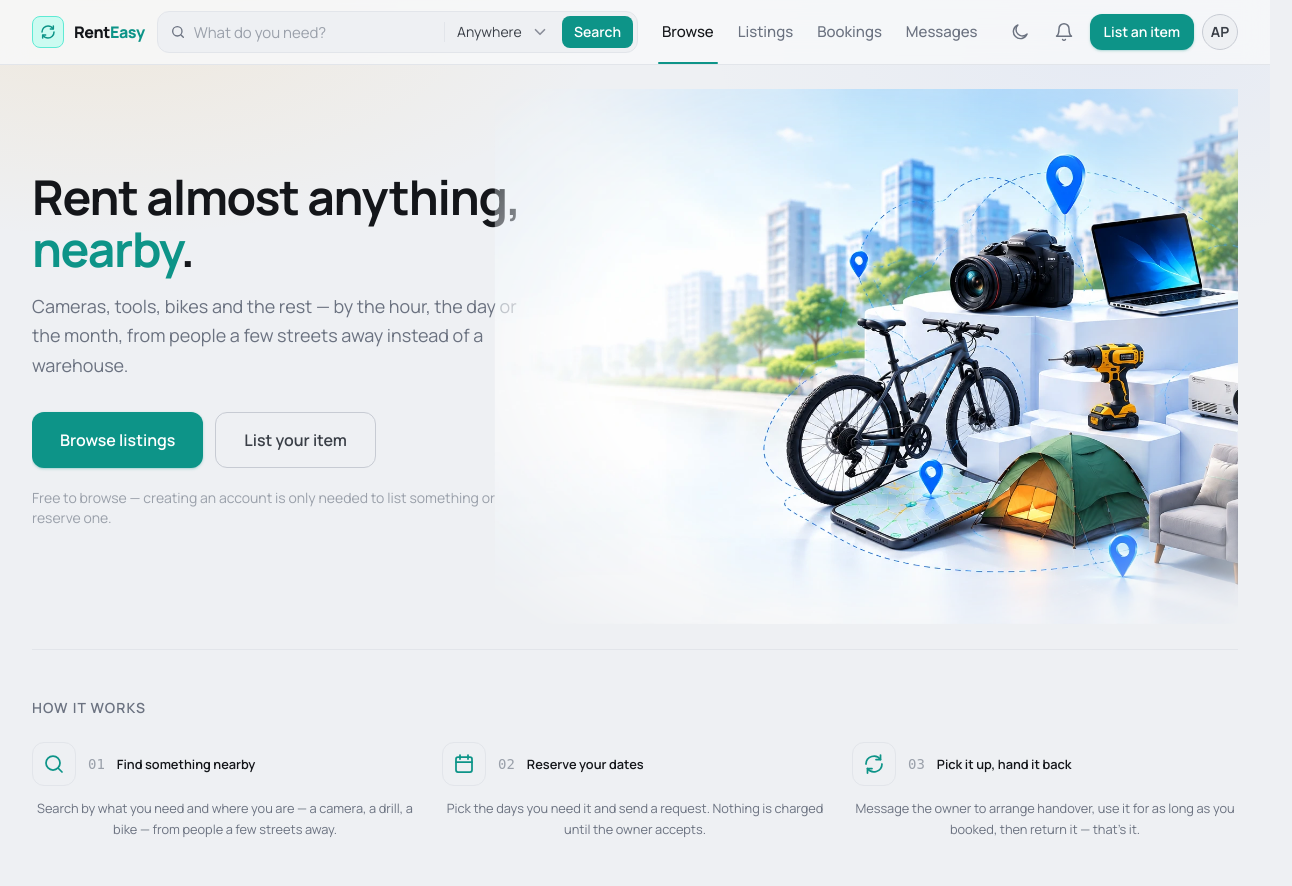
Test case: the header's account control › closes on Escape
Click the button with aria-label "account menu for asha patil".
click(1220, 32)  # box [1202,14,1238,50]
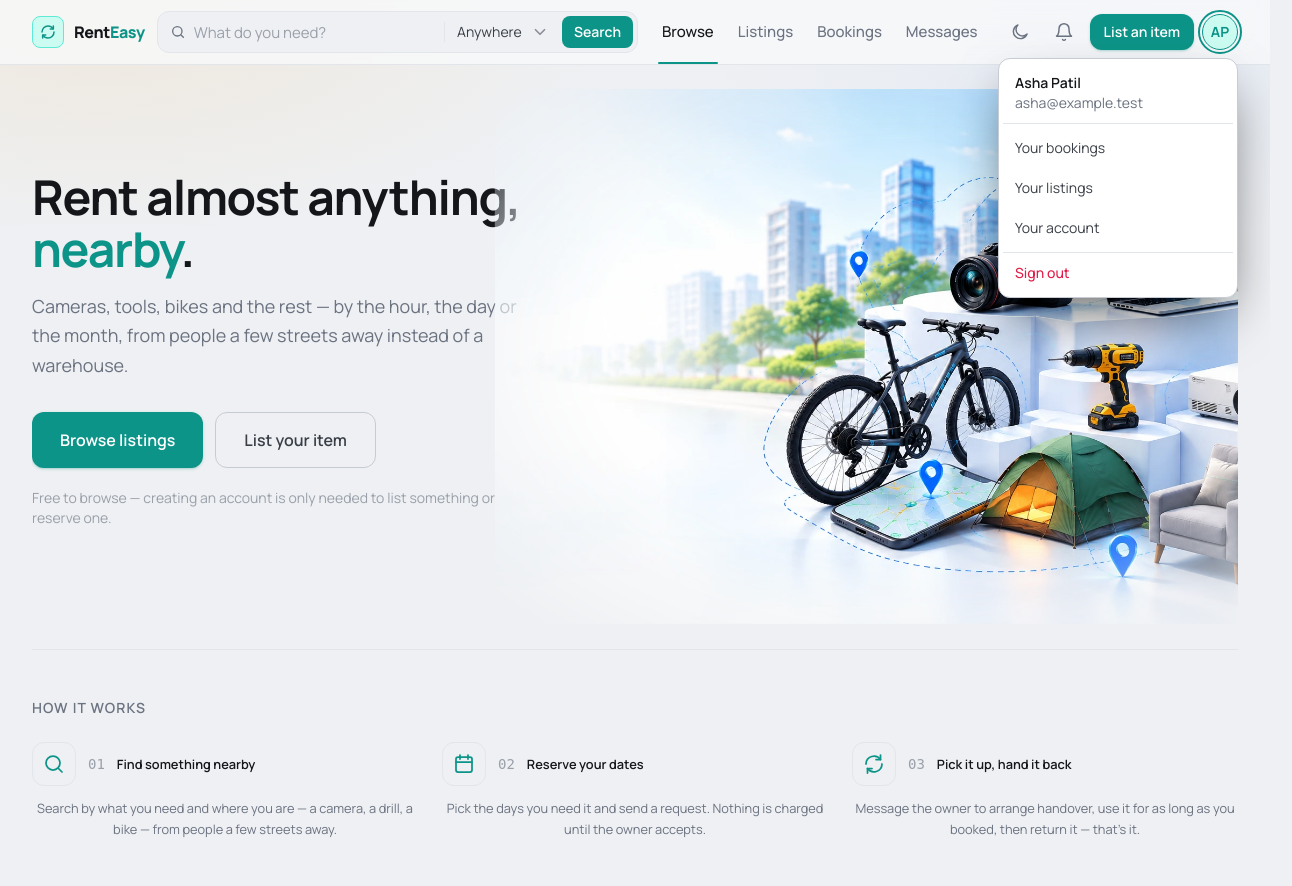
expect the menu is shown: met, box [998,58,1238,298]
Press Escape
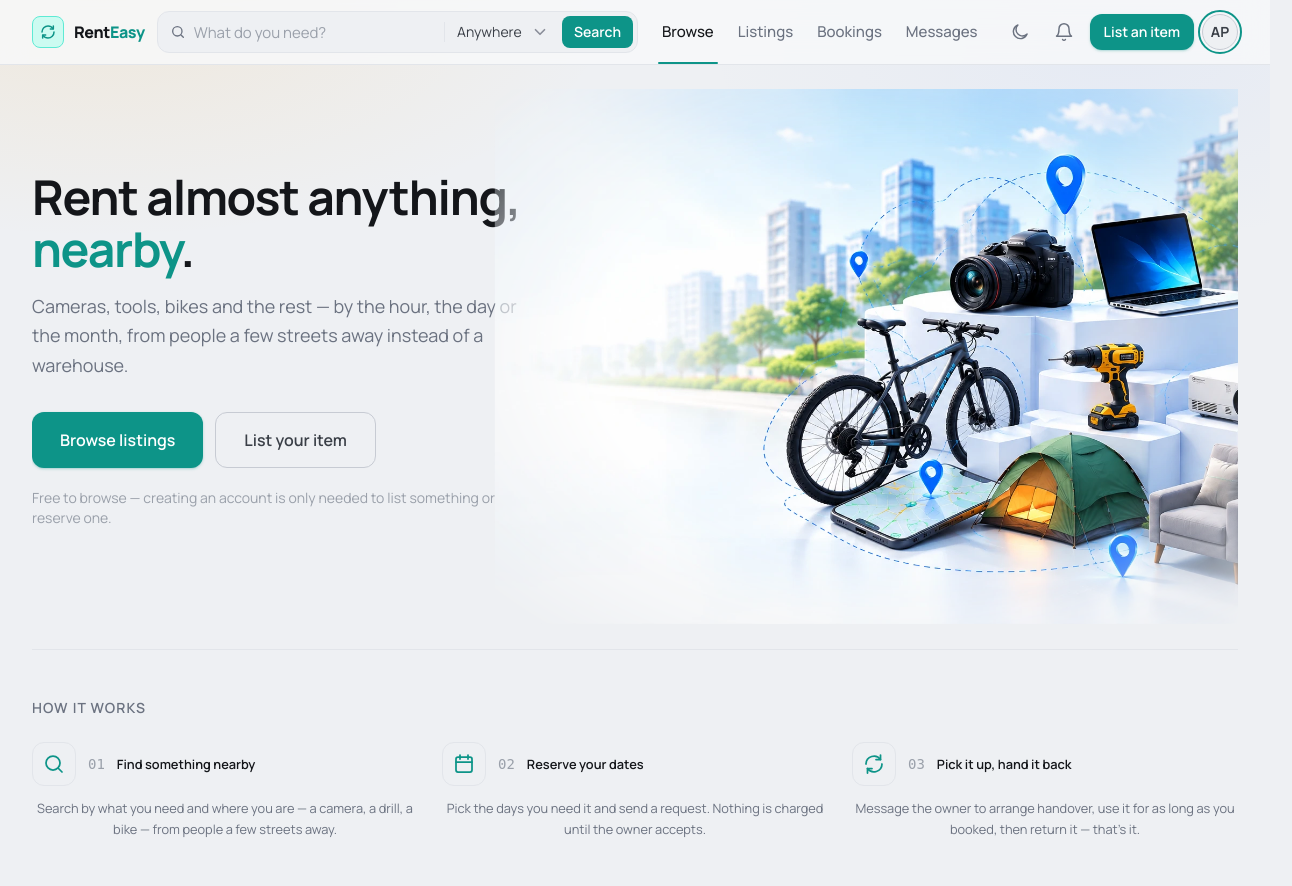
expect the menu is gone: met
